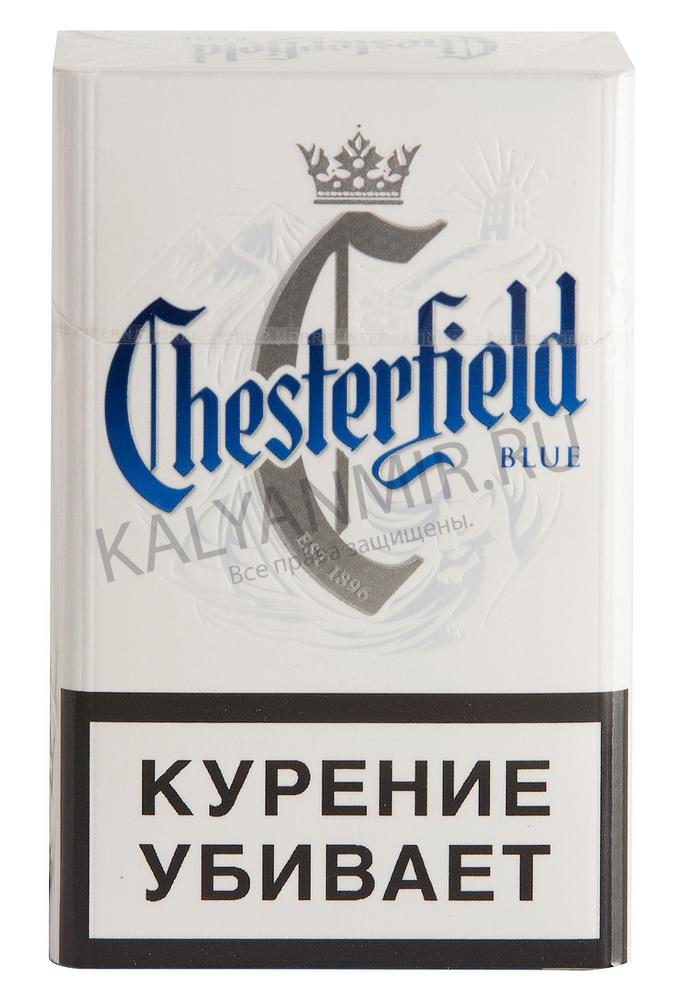chesterfield_blue: (58, 73, 622, 967)
